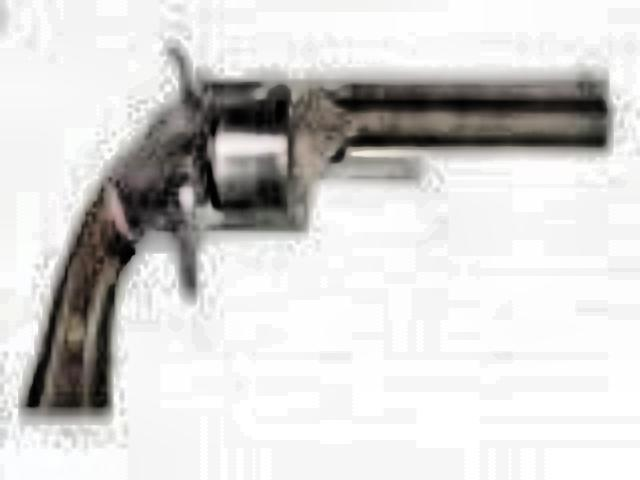pistol: (20, 44, 608, 408)
